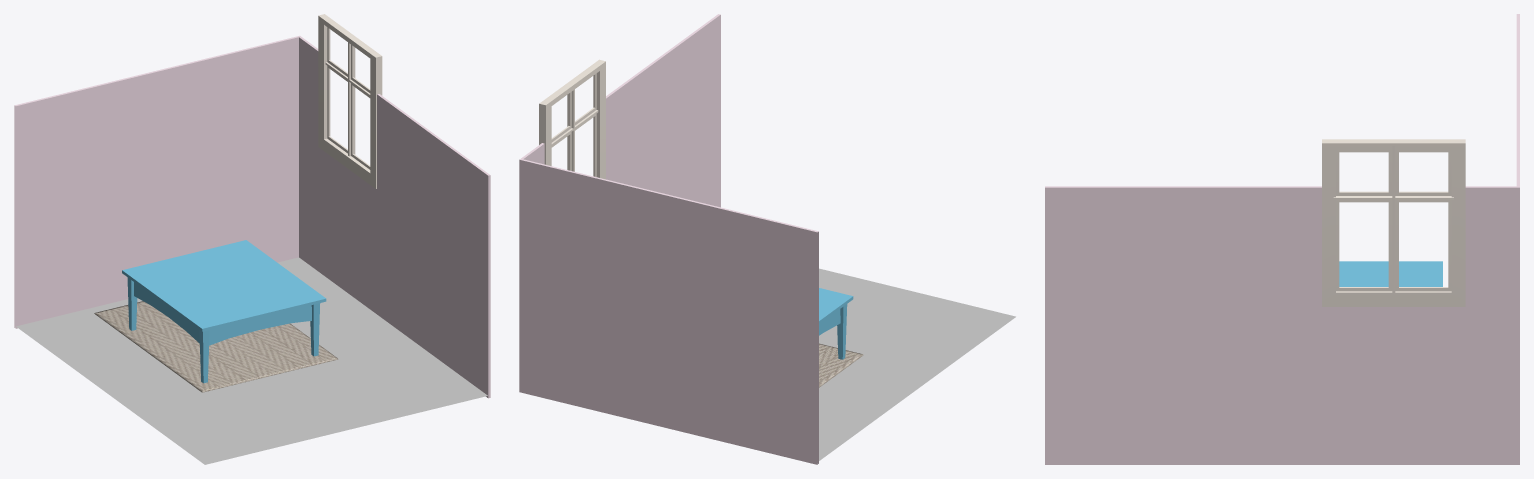
Rendered from Wall.FBX.
The picture shows the model from 3 angles, left to right: view 1: azimuth 30°, elevation 25°; view 2: azimuth 150°, elevation 25°; view 3: azimuth 270°, elevation 25°; orthographic projection. The views are drawn at different scales.
Parts seen in each view (by area): view 1: Wall, Floor001, Table, Box001, Window; view 2: Wall, Floor001, Window, Table, Box001; view 3: Wall, Window, Table.
Part boxes in pixels (x1,y1,x2,y2): Wall: (14,35,490,398); Floor001: (16,257,487,464); Table: (122,240,326,383); Box001: (94,301,338,392); Window: (318,14,382,188); Wall: (519,14,818,464); Floor001: (819,268,1015,460); Window: (539,59,605,179); Table: (819,288,853,359); Box001: (819,343,863,387); Wall: (1045,14,1519,464); Window: (1322,139,1465,306); Table: (1339,261,1442,286).
Size of the model in its own units: 2611 by 2237 by 2976.
